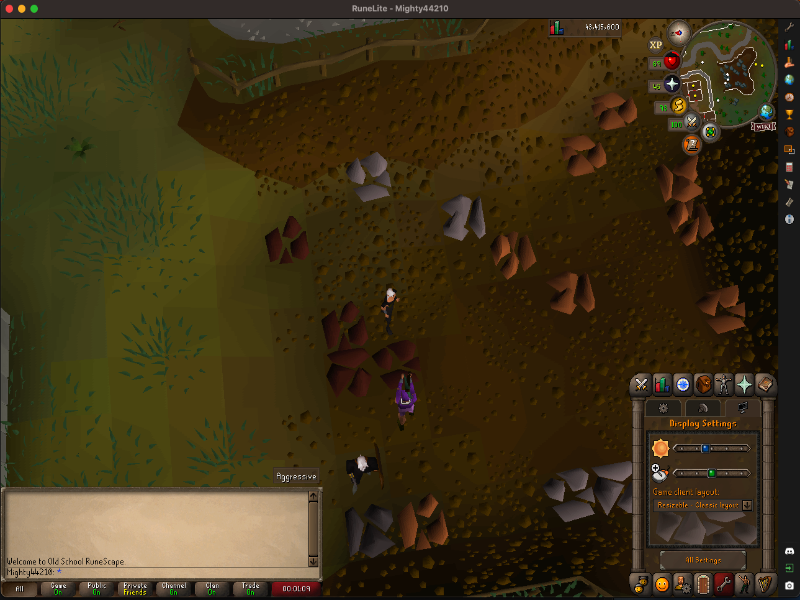iron: (334, 353, 368, 392), (380, 354, 419, 383), (327, 311, 363, 342), (270, 228, 304, 259)
